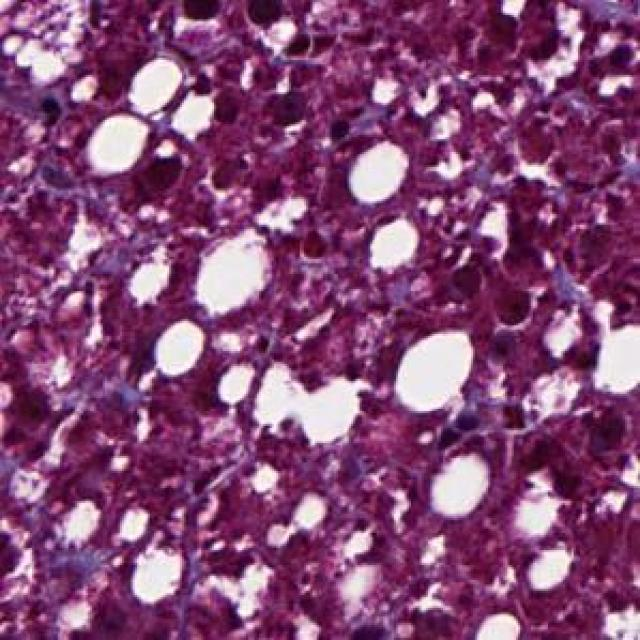steatosis: (345, 135, 415, 214)
